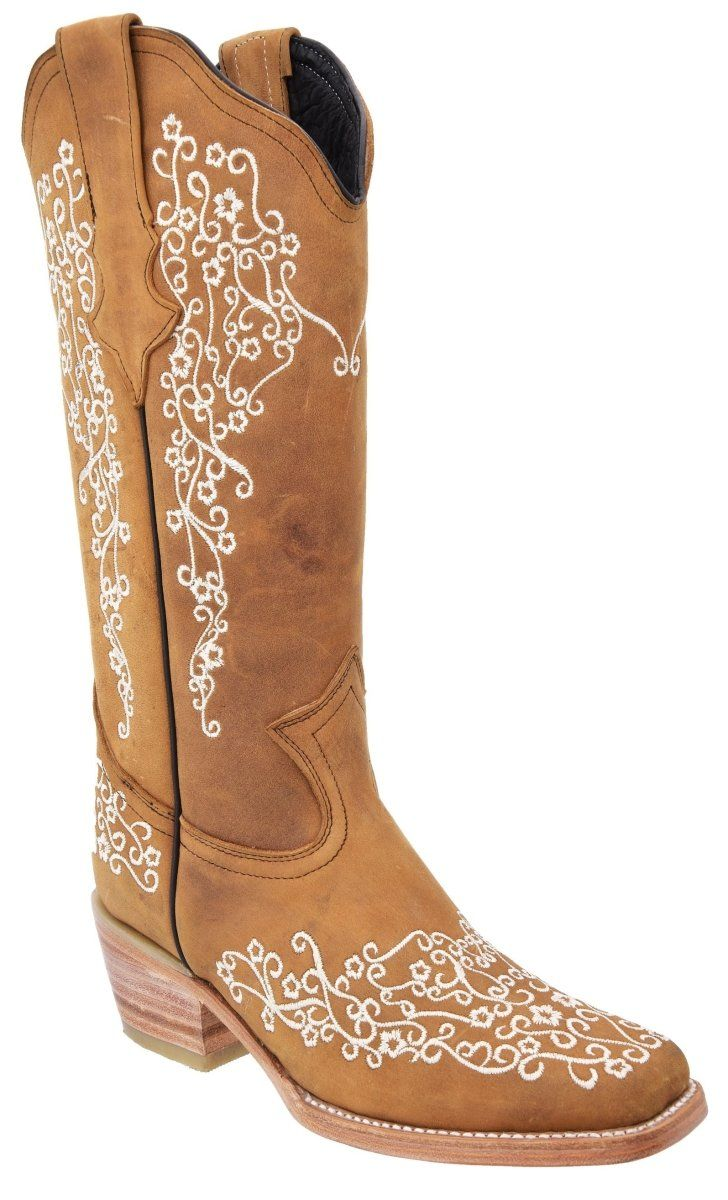gamuza: (21, 14, 694, 1132)
